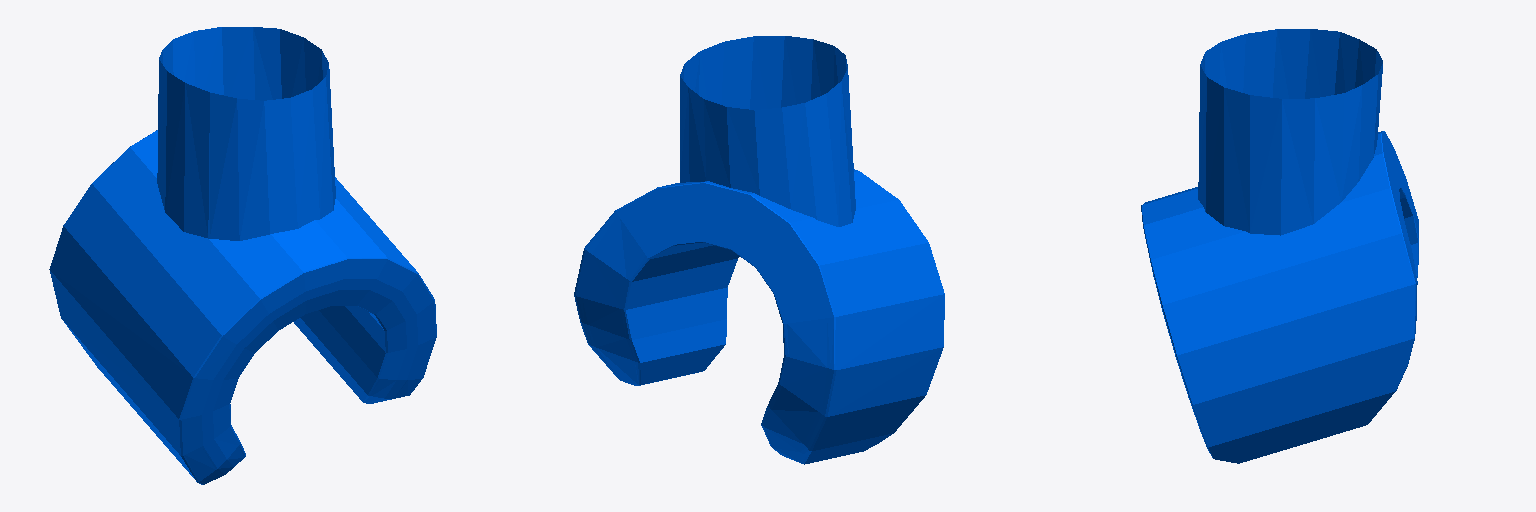
The picture shows the model from 3 angles: view 1: azimuth 30°, elevation 25°; view 2: azimuth 150°, elevation 25°; view 3: azimuth 270°, elevation 25°; orthographic projection.
Parts seen in each view (by area): view 1: main-d; view 2: main-d; view 3: main-d.
Part boxes in pixels (bbox=[...]): main-d: bbox=[49, 27, 436, 484]; main-d: bbox=[574, 36, 944, 464]; main-d: bbox=[1141, 29, 1418, 463].
Size of the model in its own units: 0.4264 by 0.5677 by 0.3736.
1 materials, 1 textured.